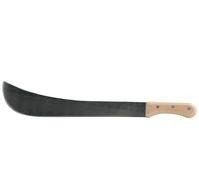MACHETTE: (0, 78, 199, 129)
